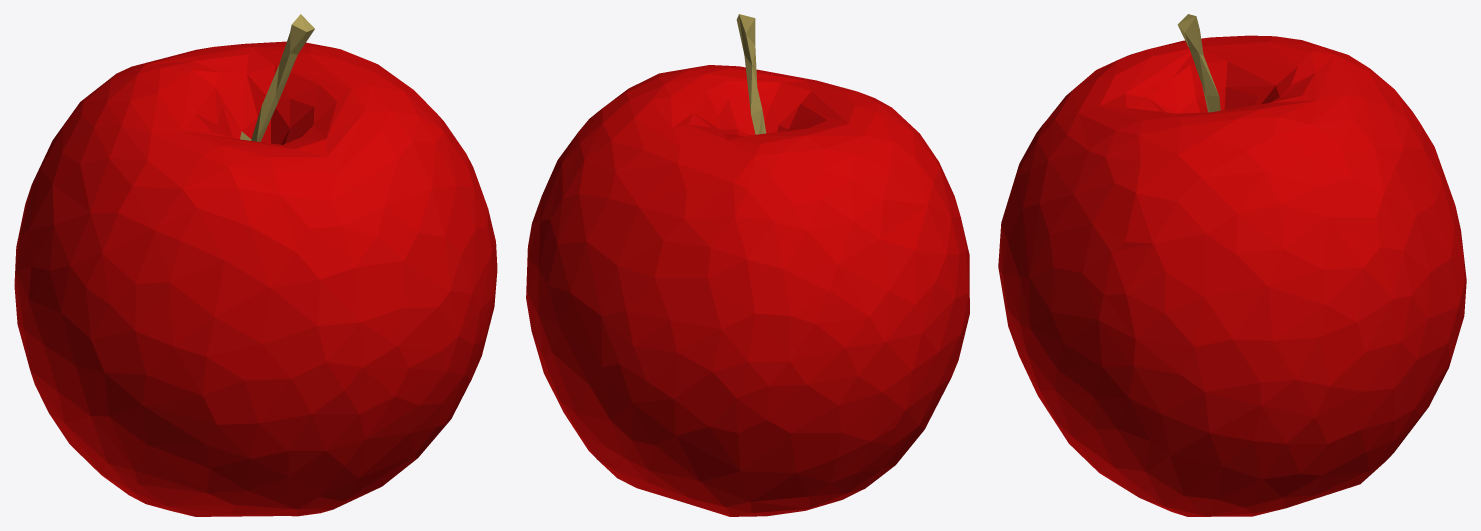
File: apple_fractured.fbx
3 renders of one model, left to right at view 1: azimuth 30°, elevation 25°; view 2: azimuth 150°, elevation 25°; view 3: azimuth 270°, elevation 25°, orthographic. The views are drawn at different scales.
Parts seen in each view (by area): view 1: Apple.001, Apple.001_shard.008, Apple.001_shard.011, Apple.001_shard.009, Apple.001_shard.001, Apple.001_shard.006, Apple.001_shard.010, Apple.001_shard.004, Apple.001_shard.007, Apple.001_shard, Apple.001_shard.002; view 2: Apple.001, Apple.001_shard.006, Apple.001_shard.004, Apple.001_shard.014, Apple.001_shard.009, Apple.001_shard.012, Apple.001_shard.002, Apple.001_shard.007, Apple.001_shard.005; view 3: Apple.001, Apple.001_shard.007, Apple.001_shard.005, Apple.001_shard.012, Apple.001_shard.010, Apple.001_shard.004, Apple.001_shard.001, Apple.001_shard.002, Apple.001_shard.009, Apple.001_shard.013.
Boxes of the visible parts, left/top/right/bottom form: Apple.001: left=36, top=14, right=495, bottom=516; Apple.001_shard.008: left=95, top=186, right=367, bottom=395; Apple.001_shard.011: left=106, top=367, right=434, bottom=516; Apple.001_shard.009: left=42, top=30, right=357, bottom=325; Apple.001_shard.001: left=323, top=174, right=479, bottom=395; Apple.001_shard.006: left=14, top=153, right=170, bottom=510; Apple.001_shard.010: left=425, top=228, right=497, bottom=448; Apple.001_shard.004: left=47, top=43, right=260, bottom=152; Apple.001_shard.007: left=342, top=58, right=495, bottom=238; Apple.001_shard: left=98, top=337, right=445, bottom=419; Apple.001_shard.002: left=240, top=43, right=349, bottom=74; Apple.001: left=526, top=14, right=969, bottom=497; Apple.001_shard.006: left=738, top=258, right=969, bottom=516; Apple.001_shard.004: left=566, top=122, right=816, bottom=359; Apple.001_shard.014: left=621, top=319, right=783, bottom=516; Apple.001_shard.009: left=697, top=27, right=959, bottom=273; Apple.001_shard.012: left=526, top=169, right=628, bottom=376; Apple.001_shard.002: left=581, top=82, right=704, bottom=168; Apple.001_shard.007: left=543, top=71, right=675, bottom=193; Apple.001_shard.005: left=529, top=318, right=641, bottom=488; Apple.001: left=998, top=14, right=1464, bottom=516; Apple.001_shard.007: left=1089, top=119, right=1332, bottom=418; Apple.001_shard.005: left=1169, top=386, right=1416, bottom=516; Apple.001_shard.012: left=1288, top=211, right=1464, bottom=391; Apple.001_shard.010: left=1033, top=280, right=1221, bottom=503; Apple.001_shard.004: left=1278, top=49, right=1463, bottom=265; Apple.001_shard.001: left=998, top=122, right=1095, bottom=347; Apple.001_shard.002: left=1228, top=94, right=1363, bottom=213; Apple.001_shard.009: left=1073, top=27, right=1334, bottom=126; Apple.001_shard.013: left=1080, top=16, right=1198, bottom=212.
Size of the model in its own units: 15457 by 16728 by 15129.
